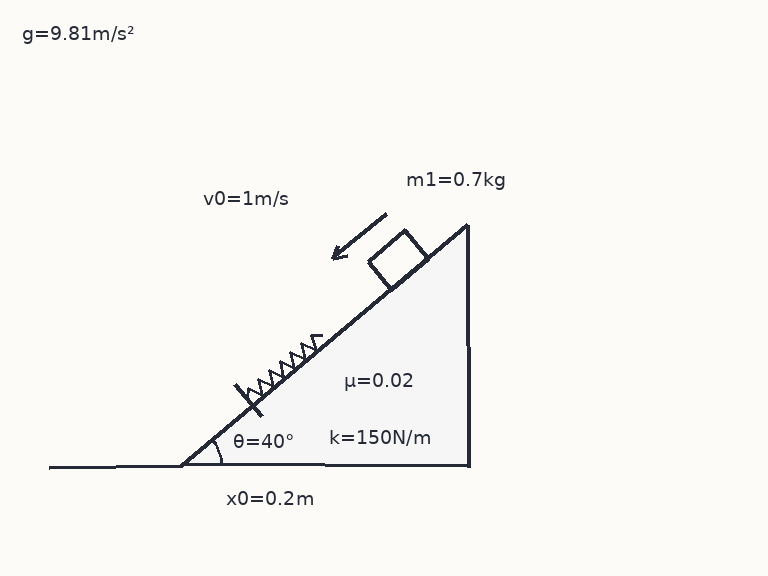block: (366, 228, 430, 291)
ramp: (179, 223, 470, 467)
spring: (245, 333, 323, 400)
